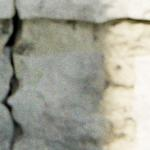brick: (130, 55, 149, 149)
broken_brick: (0, 50, 104, 149), (15, 0, 149, 21), (0, 55, 11, 98), (0, 0, 13, 17)
crack: (0, 0, 23, 147)
